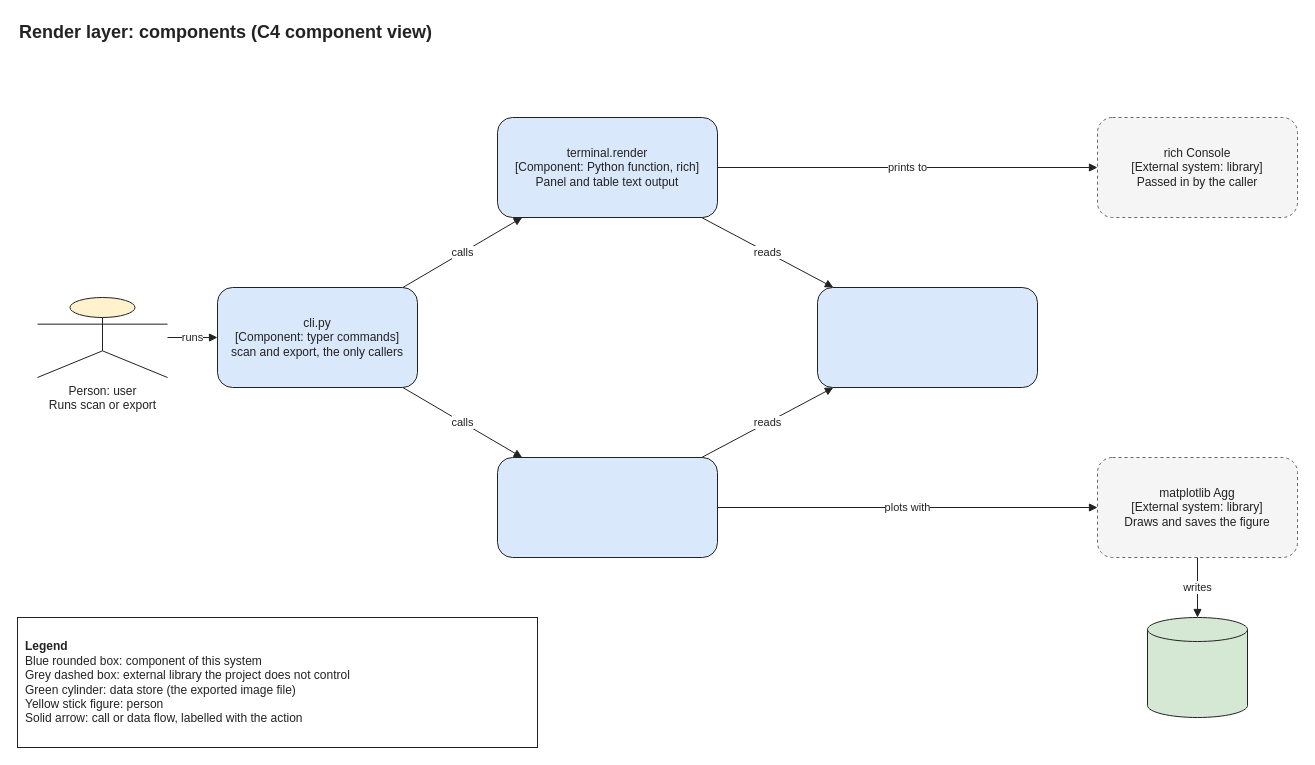
Image size: 1315x765. Some labels were removed from this diagram. The shapes that lost their labels are listed below. From the top down, each one's centre as x and y in pixels, then its label:
point 927,337: aggregate.Report [Component: pydantic model] Totals, buckets, series, warnings
point 607,507: png.write_png [Component: Python function, matplotlib] Four panel chart image
point 1197,667: PNG file [Data store: image]
